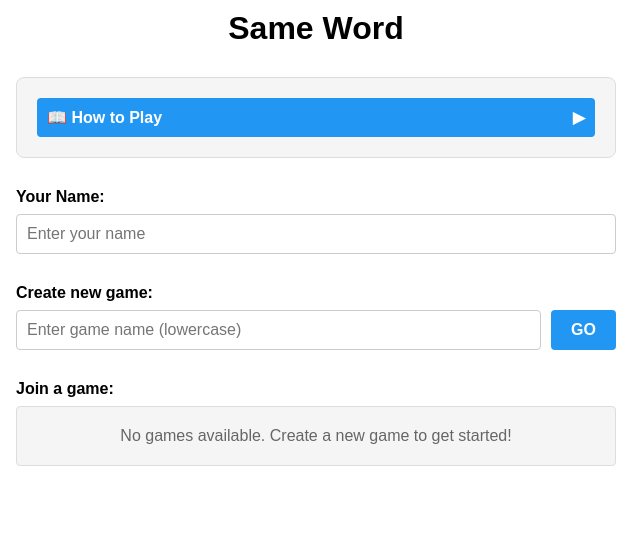
Test: Home Page › Create Game › validates that player name is required
Type "testgame" into the field with placeholder "Enter game name (lowercase)".
click(279, 330); type("testgame")  # box [16,310,541,350]
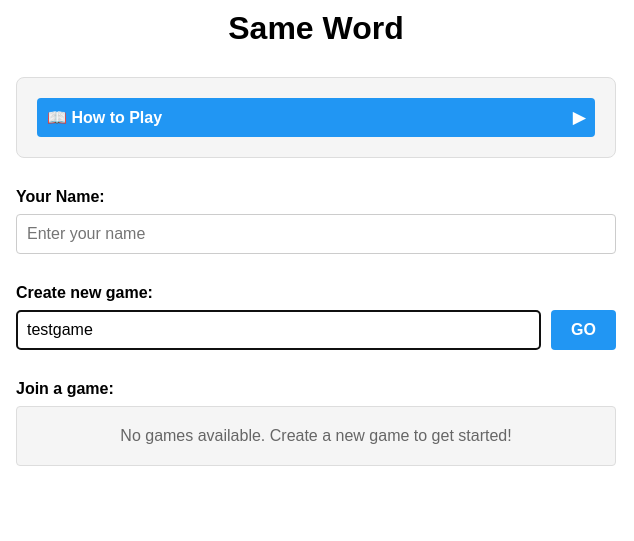
Click the button "GO".
click(584, 330)  # box [551,310,616,350]
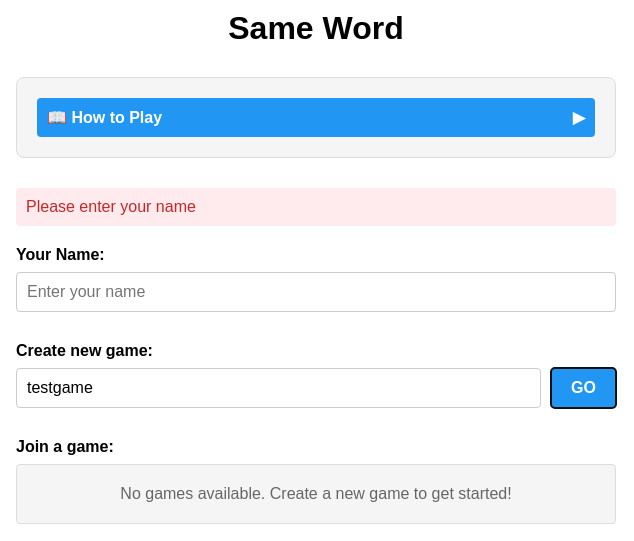
Check: the text "Please enter your name" is shown, box [16,188,616,226]
